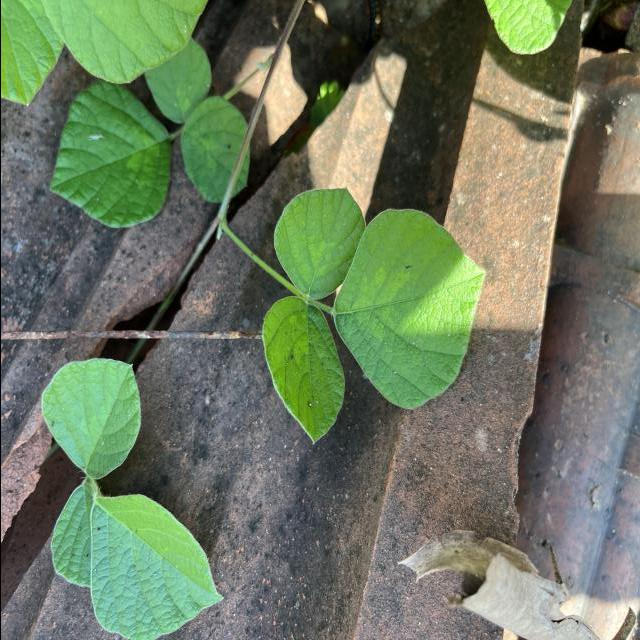Pseudarthria viscida: (260, 185, 490, 447), (38, 354, 226, 640)
